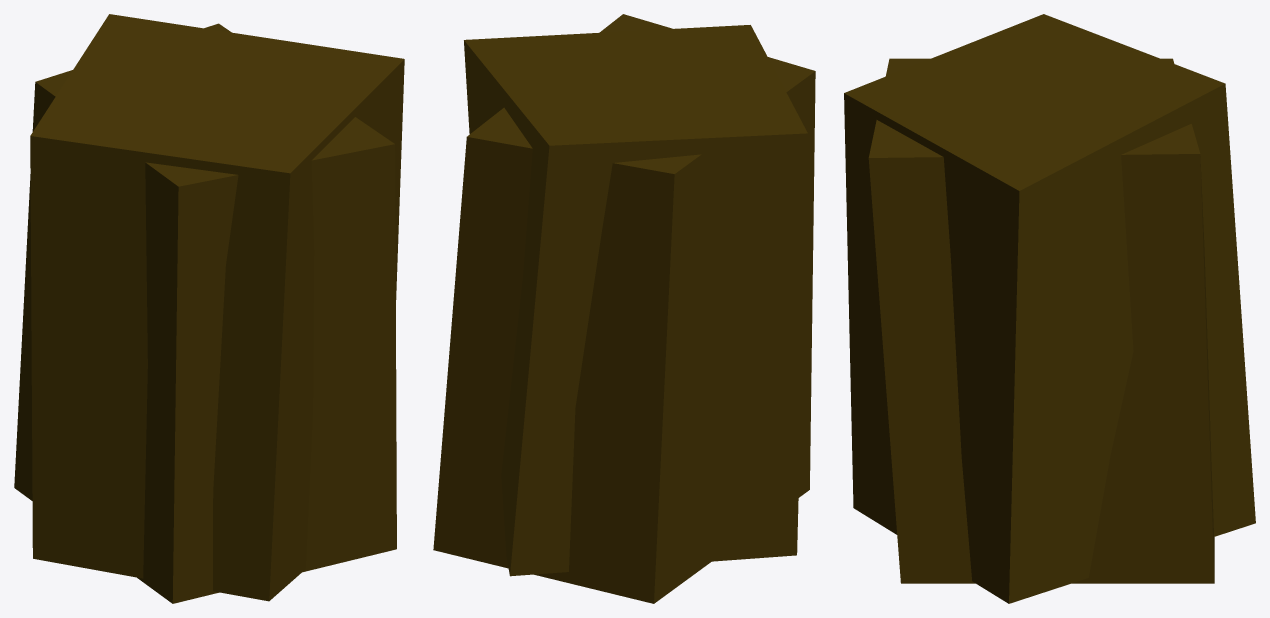
The model's file is trunk.fbx.
3 renders of one model, left to right at view 1: azimuth 30°, elevation 25°; view 2: azimuth 150°, elevation 25°; view 3: azimuth 270°, elevation 25°, orthographic.
Parts seen in each view (by area): view 1: Trunk 2, Trunk 1; view 2: Trunk 2, Trunk 1; view 3: Trunk 2, Trunk 1.
Part boxes in pixels (x1,y1,x2,y2): Trunk 2: (30,14,404,601); Trunk 1: (14,23,396,603); Trunk 2: (464,25,807,576); Trunk 1: (433,14,815,603); Trunk 2: (844,14,1255,603); Trunk 1: (868,58,1214,583).
Size of the model in its own units: 115 by 136 by 115.
